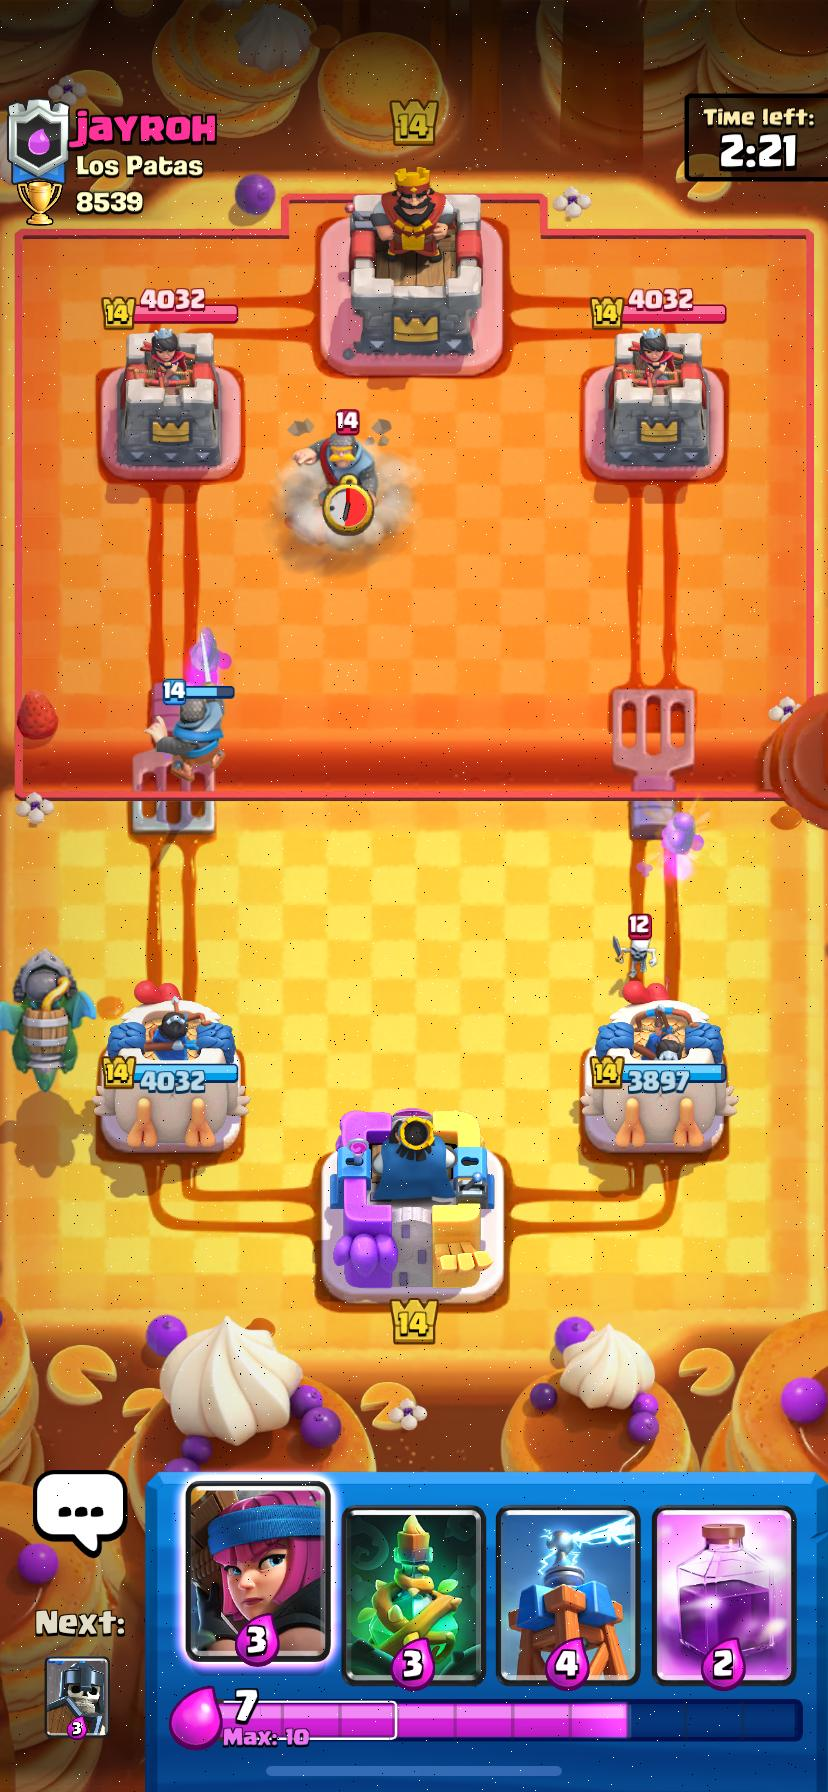EKingTower: (350, 170, 481, 359)
EKnight: (293, 423, 379, 503)
ELarry: (613, 912, 656, 978)
EnemyPrincessTower: (604, 328, 709, 475), (116, 327, 221, 474)
OInfernoDrag: (0, 950, 96, 1091)
OKnight: (146, 680, 233, 781)
OwnKingTower: (321, 1109, 503, 1303)
OwnPrincessTower: (94, 983, 248, 1152), (581, 999, 735, 1154)
